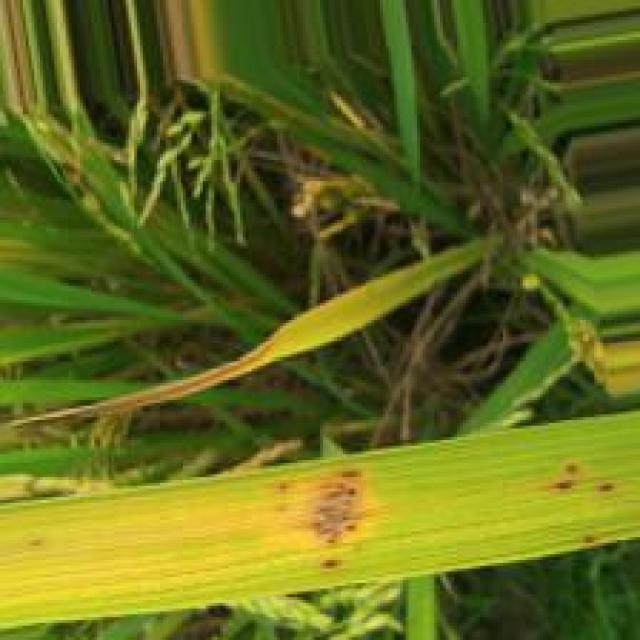Narrow_Brown_Leaf_Spot: (27, 452, 386, 580), (555, 456, 581, 497), (580, 530, 596, 545), (603, 479, 617, 493)
